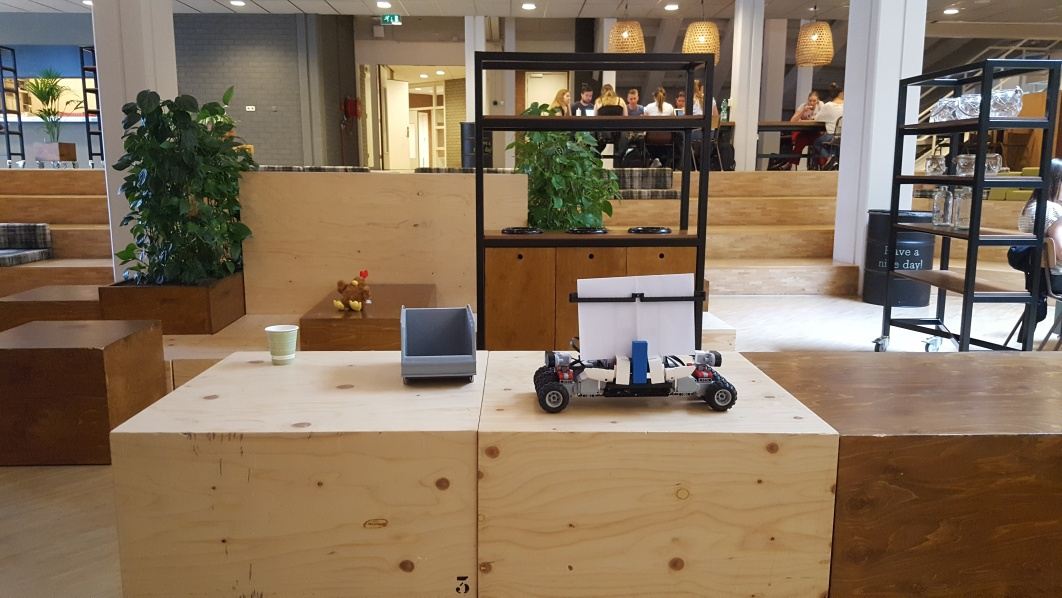beam: (628, 337, 649, 389)
chicken: (333, 268, 373, 312)
cup: (266, 323, 299, 371)
tray: (397, 303, 482, 381)
